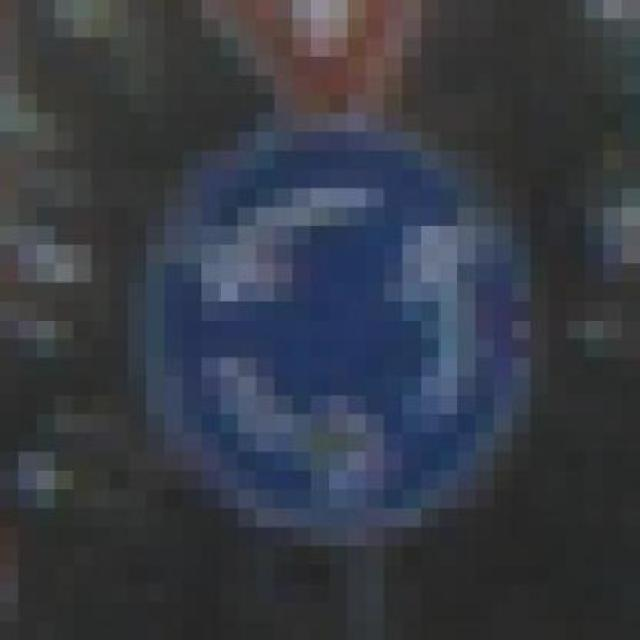Round-About: (91, 75, 548, 583)
